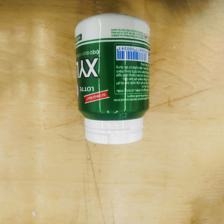Xylitol_green: (73, 14, 151, 146)
